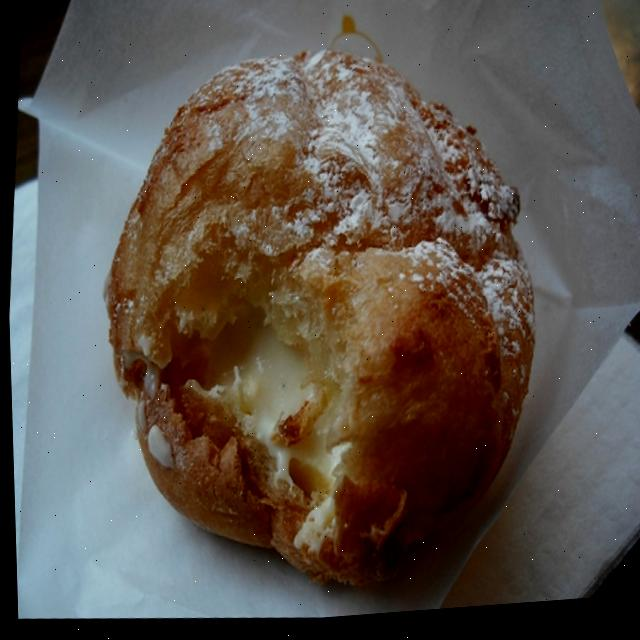炸货点心: (32, 0, 610, 638)
蛋糕甜品: (32, 0, 610, 638)
